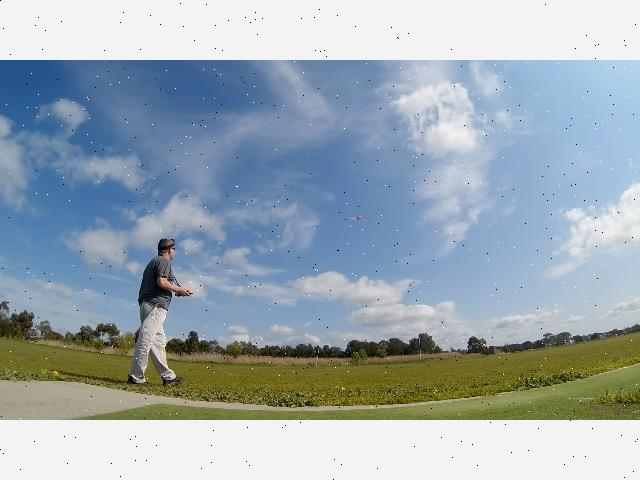Anti-Drone: (345, 215, 371, 220)
